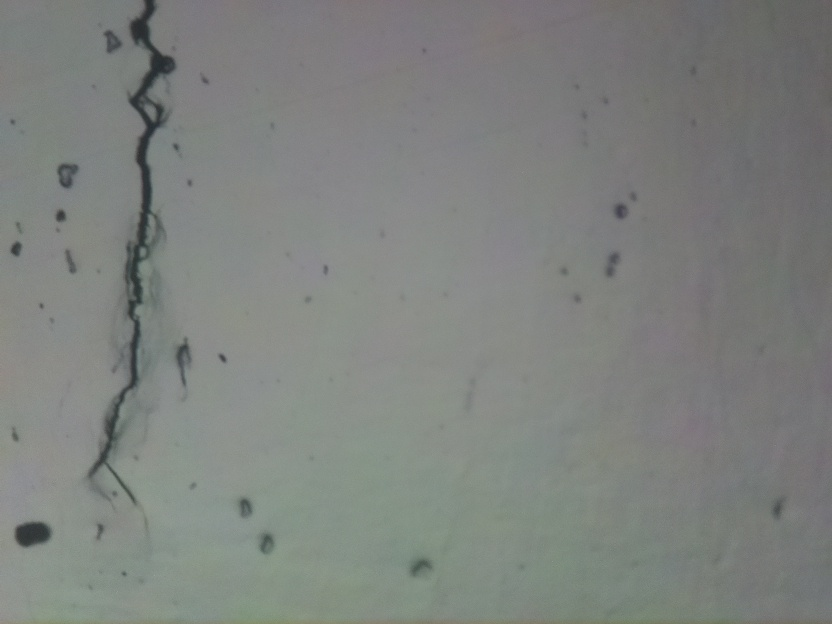crack: (86, 0, 175, 499)
